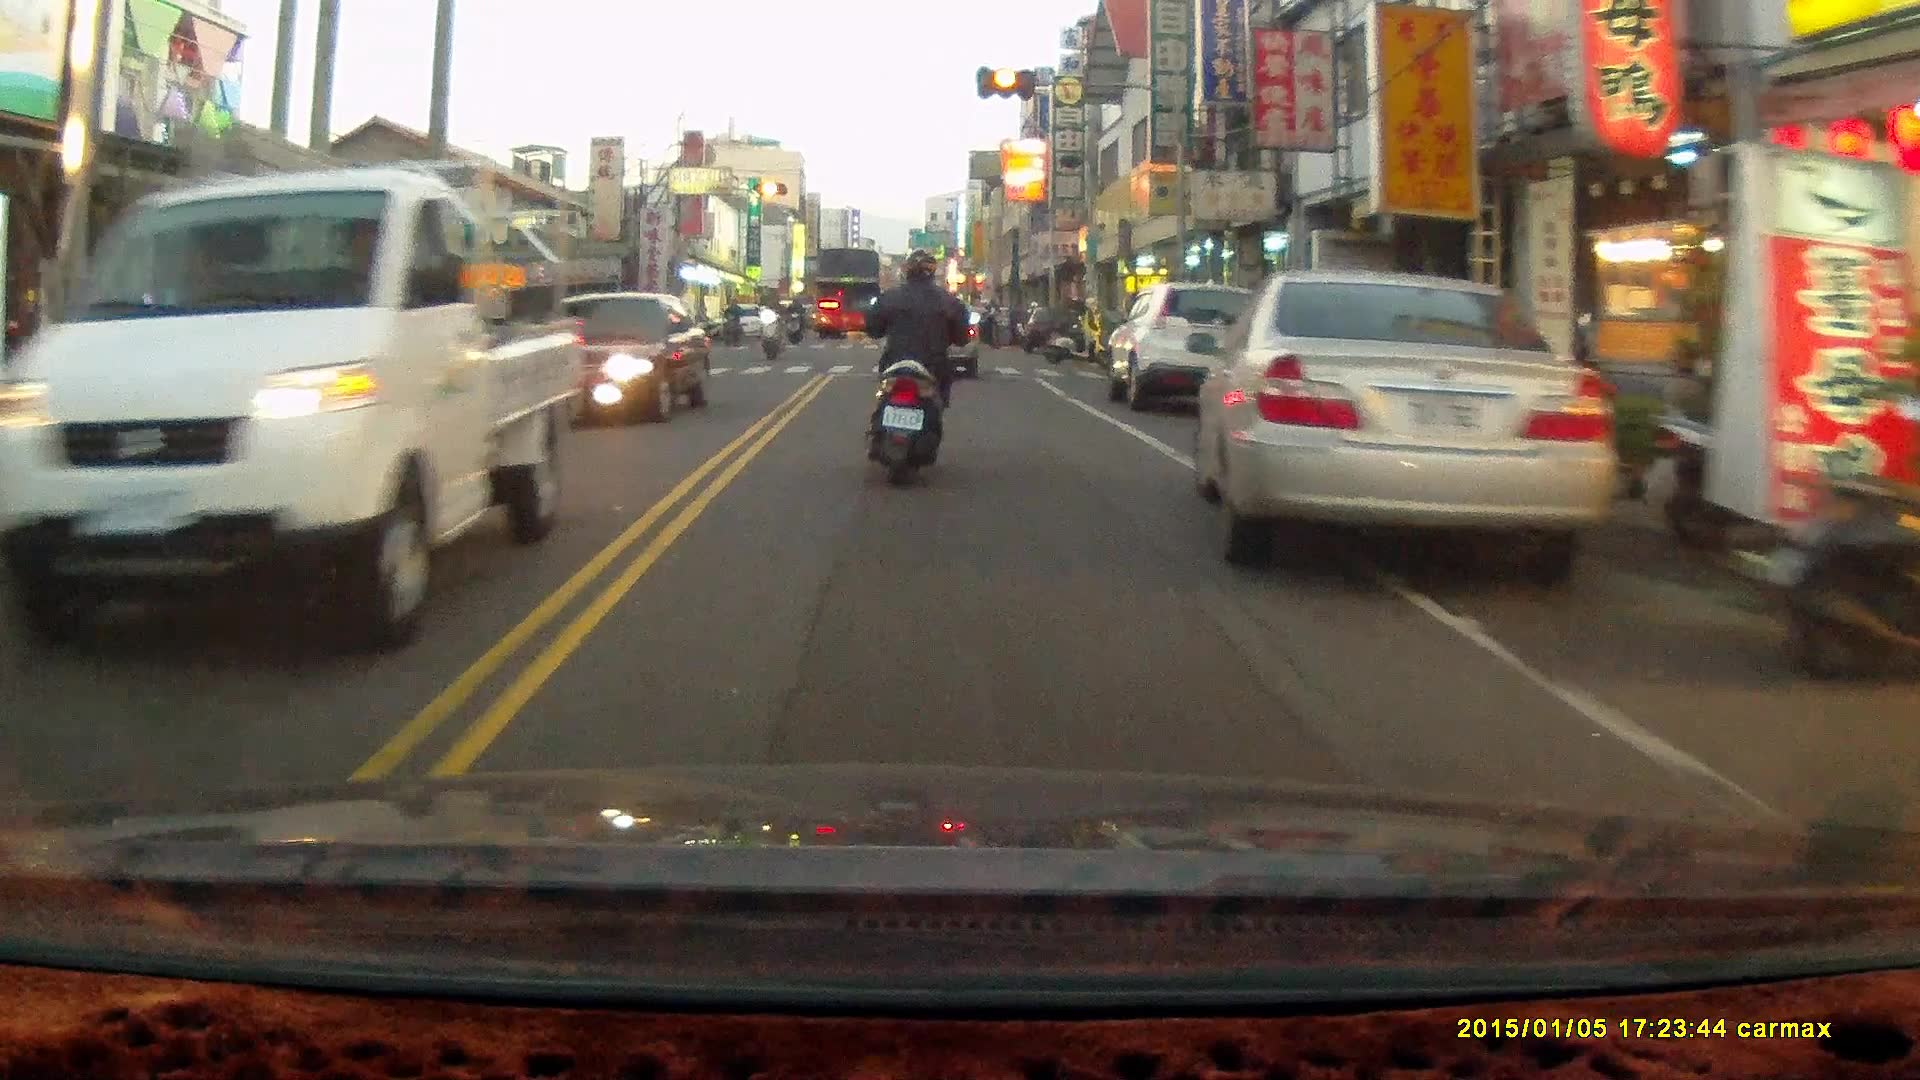pedestrian: (1080, 292, 1104, 367)
rider: (860, 248, 983, 487), (756, 287, 784, 358), (721, 294, 743, 348), (787, 291, 807, 346)
vehicle: (42, 165, 571, 664), (1190, 269, 1589, 590), (521, 292, 717, 431), (1108, 279, 1275, 410), (811, 247, 890, 337)
